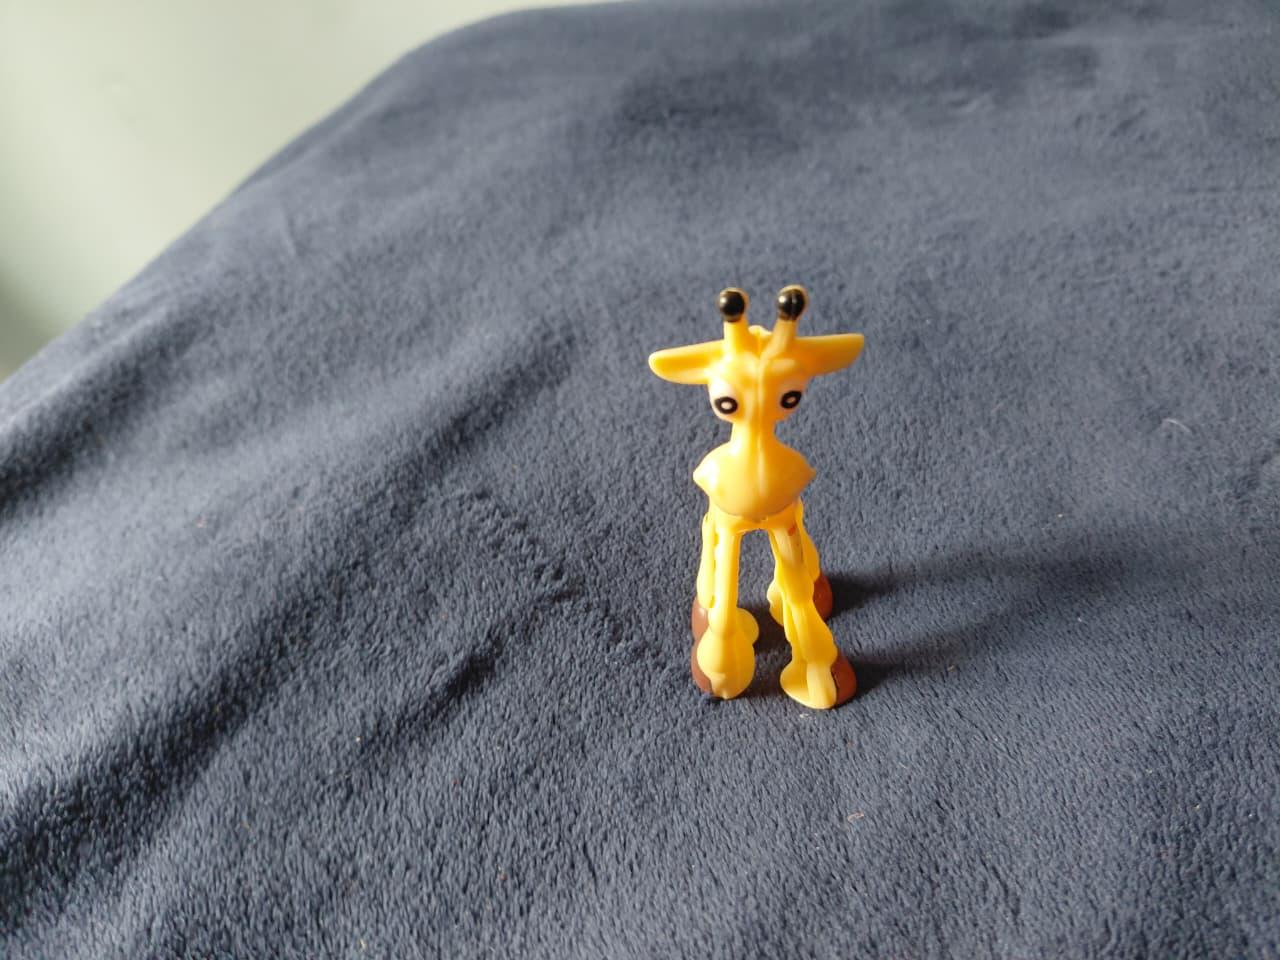giraffe: (648, 260, 874, 711)
